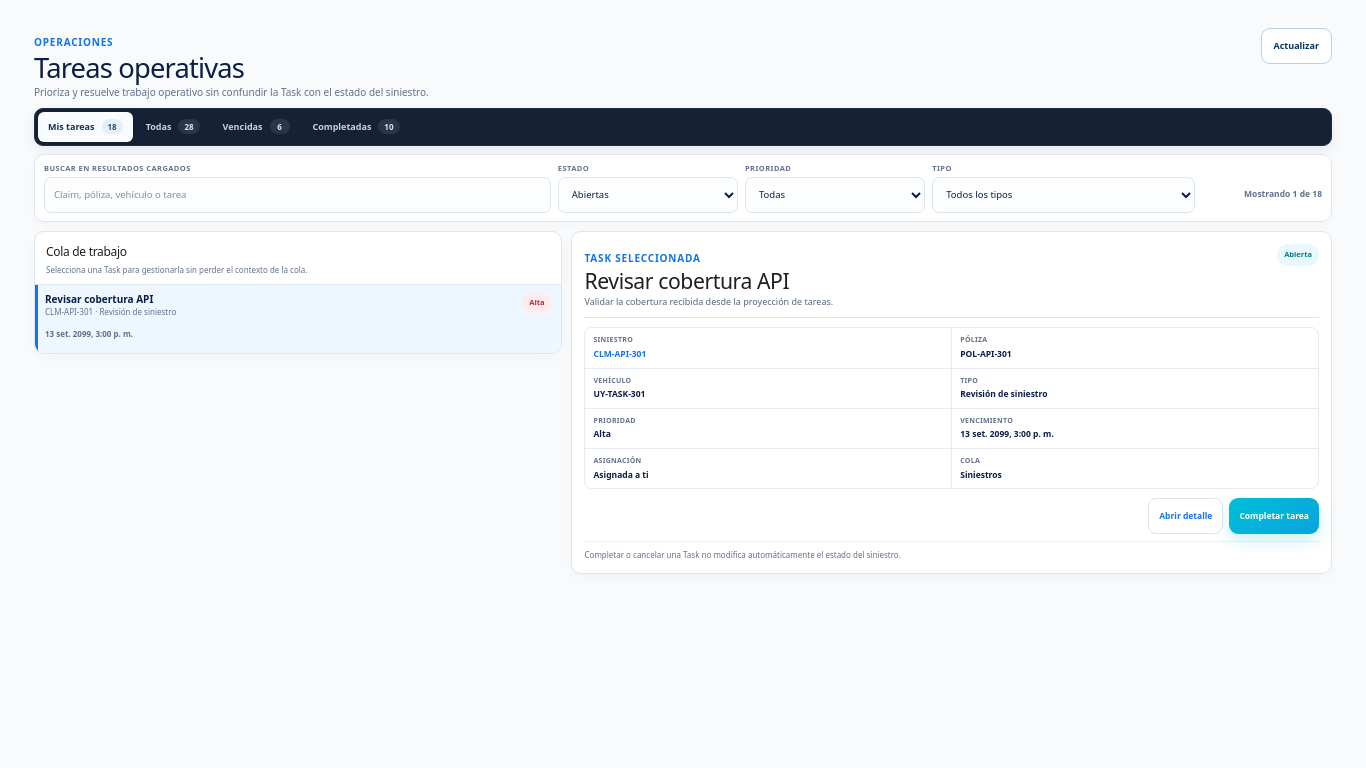
OperatorTasksPage R3 workspace › keeps textual search local to the loaded API results
The image size is (1366, 768).
Expected: the text "Revisar cobertura API" is shown, 45,292 -> 153,306
Type "NO-EXISTE" into the field labelled "Buscar en resultados cargados" at (297, 195), box 44,177 -> 551,213
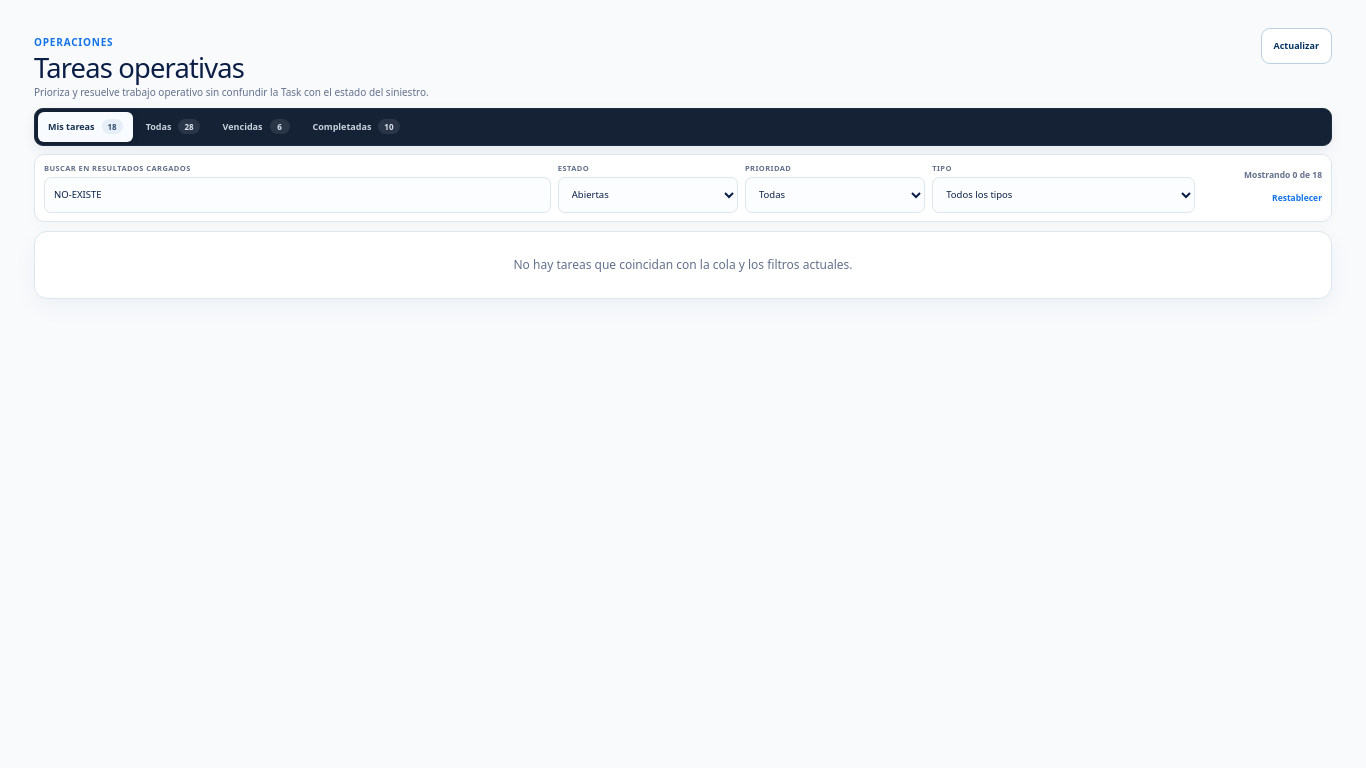
Result: the text "No hay tareas que coincidan con la cola y los filtros actuales." is shown at 34,231 -> 1332,299
